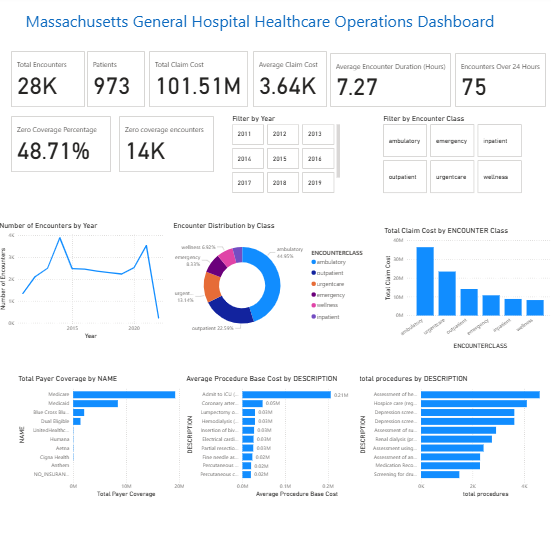

Layout of this report page (visuals, bound fields, positions):
{"tool":"powerbi","page":{"name":"Page 1","canvas":[1300,1280],"ordinal":0},"visuals":[{"type":"cardVisual","fields":{"Data":["Count(hospital_db patients.Id)"]},"box":[205.7,124.3,144.3,140],"z":0},{"type":"cardVisual","fields":{"Data":["hospital_db encounters.Total Encounters"]},"box":[28.6,124.3,181.4,140],"z":1000},{"type":"cardVisual","fields":{"Data":["hospital_db encounters.zero coverage encounters"]},"box":[278.6,274.3,230,140],"z":2000},{"type":"lineChart","fields":{"Y":["hospital_db encounters.Total Encounters"],"Category":["hospital_db encounters.START.Variation.Date Hierarchy.Year"]},"box":[0,524.3,394.3,280],"z":3000},{"type":"donutChart","title":"Encounter Distribution by Class ","fields":{"Category":["hospital_db encounters.ENCOUNTERCLASS"],"Y":["hospital_db encounters.Total Encounters"]},"box":[405.7,524.3,467.1,280],"z":4000},{"type":"clusteredColumnChart","title":"Total Claim Cost by ENCOUNTER Class","fields":{"Y":["hospital_db encounters.Total Claim Cost"],"Category":["hospital_db encounters.ENCOUNTERCLASS"]},"box":[897.1,535.7,402.9,291.4],"z":5000},{"type":"clusteredBarChart","fields":{"Y":["hospital_db encounters.Total Payer Coverage"],"Category":["hospital_db payers.NAME"]},"box":[44.3,878.6,397.1,292.9],"z":6000},{"type":"cardVisual","fields":{"Data":["hospital_db encounters.Zero Coverage Percentage"]},"box":[28.6,274.3,242.9,140],"z":7000},{"type":"barChart","fields":{"Y":["hospital_db procedures.total procedures"],"Category":["hospital_db procedures.DESCRIPTION"]},"box":[838.6,878.6,461.4,292.9],"z":8000},{"type":"clusteredBarChart","fields":{"Category":["hospital_db procedures.DESCRIPTION"],"Y":["hospital_db procedures.Average Procedure Base Cost"]},"box":[435.7,878.6,408.6,292.9],"z":9000},{"type":"advancedSlicerVisual","title":"Filter by Year","fields":{"Values":["hospital_db encounters.START.Variation.Date Hierarchy.Year"]},"box":[541.4,274.3,261.4,190],"z":10000},{"type":"advancedSlicerVisual","title":"Filter by Encounter Class","fields":{"Values":["hospital_db encounters.ENCOUNTERCLASS"]},"box":[894.3,274.3,334.3,190],"z":11000},{"type":"textbox","box":[0,28.6,1300,78.6],"z":12000},{"type":"cardVisual","fields":{"Data":["hospital_db encounters.Total Claim Cost"]},"box":[350,124.3,240,140],"z":13000},{"type":"cardVisual","fields":{"Data":["hospital_db encounters.Average Claim Cost"]},"box":[590,124.3,181.4,140],"z":14000},{"type":"cardVisual","fields":{"Data":["hospital_db encounters.Average Encounter Duration (Hours)"]},"box":[771.4,128.6,291.4,135.7],"z":15000},{"type":"cardVisual","fields":{"Data":["hospital_db encounters.Encounters Over 24 Hours"]},"box":[1061.4,128.6,221.4,135.7],"z":16000}]}

Visuals, with their boxes in screenshot pixels (x1, y1, x2, y2), scaled from the page's 1300x1280 canvas onto the 551x543 screenshot:
cardVisual - Count(hospital_db patients.Id): x1=87 y1=53 x2=148 y2=112
cardVisual - hospital_db encounters.Total Encounters: x1=12 y1=53 x2=89 y2=112
cardVisual - hospital_db encounters.zero coverage encounters: x1=118 y1=116 x2=216 y2=176
lineChart - hospital_db encounters.Total Encounters x hospital_db encounters.START.Variation.Date Hierarchy.Year: x1=0 y1=222 x2=167 y2=341
"Encounter Distribution by Class " donutChart: x1=172 y1=222 x2=370 y2=341
"Total Claim Cost by ENCOUNTER Class" clusteredColumnChart: x1=380 y1=227 x2=550 y2=351
clusteredBarChart - hospital_db encounters.Total Payer Coverage x hospital_db payers.NAME: x1=19 y1=373 x2=187 y2=497
cardVisual - hospital_db encounters.Zero Coverage Percentage: x1=12 y1=116 x2=115 y2=176
barChart - hospital_db procedures.total procedures x hospital_db procedures.DESCRIPTION: x1=355 y1=373 x2=550 y2=497
clusteredBarChart - hospital_db procedures.DESCRIPTION x hospital_db procedures.Average Procedure Base Cost: x1=185 y1=373 x2=358 y2=497
"Filter by Year" advancedSlicerVisual: x1=229 y1=116 x2=340 y2=197
"Filter by Encounter Class" advancedSlicerVisual: x1=379 y1=116 x2=521 y2=197
textbox: x1=0 y1=12 x2=550 y2=45
cardVisual - hospital_db encounters.Total Claim Cost: x1=148 y1=53 x2=250 y2=112
cardVisual - hospital_db encounters.Average Claim Cost: x1=250 y1=53 x2=327 y2=112
cardVisual - hospital_db encounters.Average Encounter Duration (Hours): x1=327 y1=55 x2=450 y2=112
cardVisual - hospital_db encounters.Encounters Over 24 Hours: x1=450 y1=55 x2=544 y2=112
